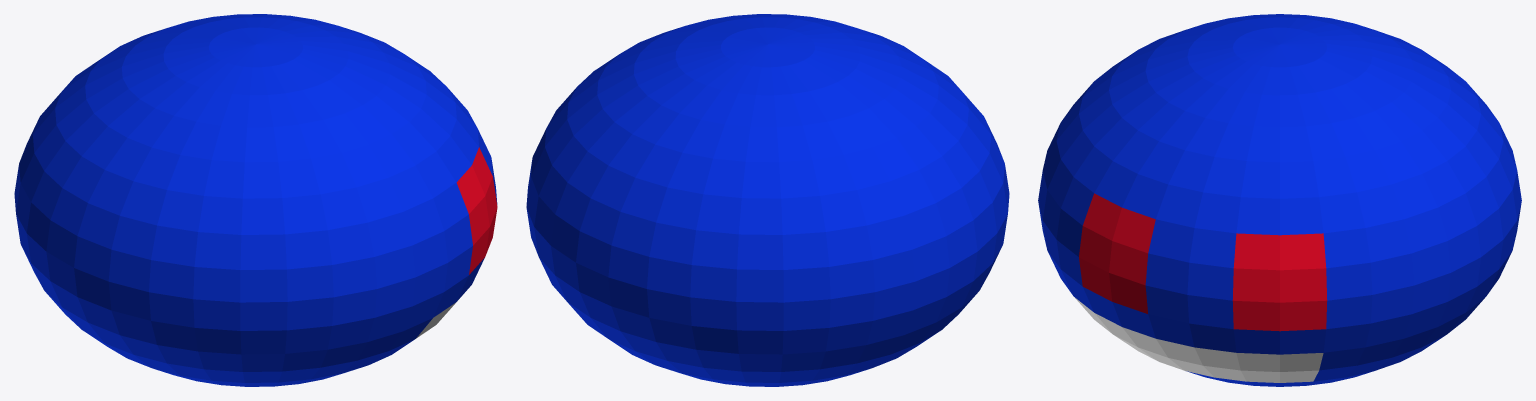
File: head.fbx
The picture shows the model from 3 angles, left to right: view 1: azimuth 30°, elevation 25°; view 2: azimuth 150°, elevation 25°; view 3: azimuth 270°, elevation 25°; orthographic projection.
Visible parts, largest first — view 1: Head; view 2: Head; view 3: Head.
Boxes of the visible parts, x1,y1,x2,y2 form: Head: (14,14,497,386); Head: (526,14,1009,386); Head: (1038,14,1521,386).
Size of the model in its own units: 200 by 142 by 200.
